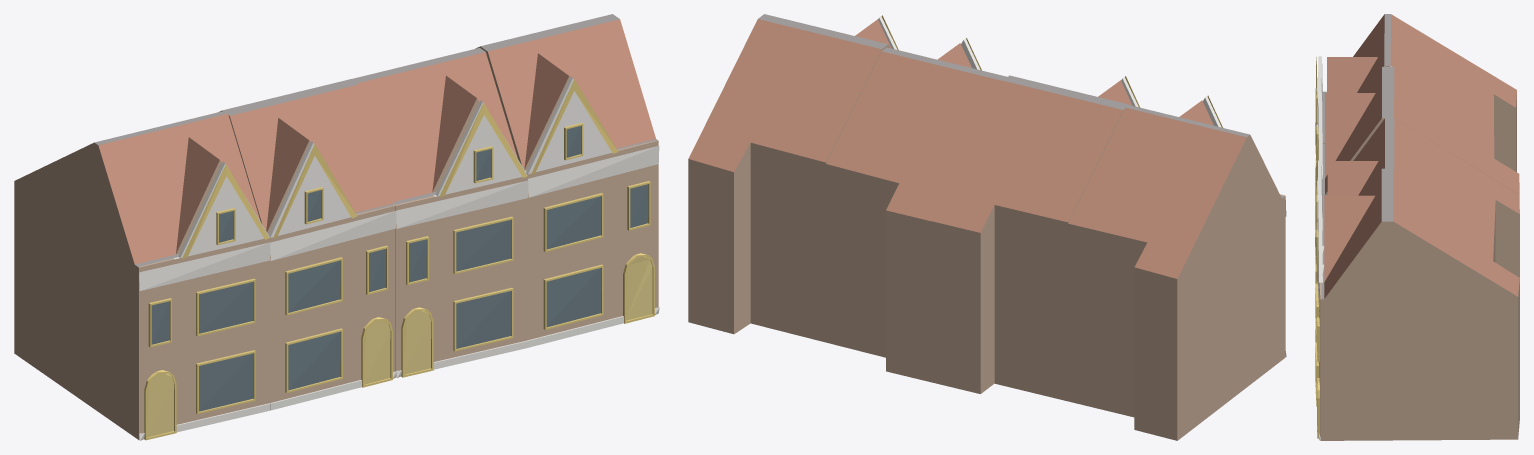
Rendered from chunk-face-zaanhof-71-78.lod2.glb.
The picture shows the model from 3 angles, left to right: view 1: azimuth 30°, elevation 25°; view 2: azimuth 150°, elevation 25°; view 3: azimuth 270°, elevation 25°; orthographic projection. The views are drawn at different scales.
Visible parts, largest first — view 1: lod2; view 2: lod2; view 3: lod2.
Boxes of the visible parts, x1,y1,x2,y2 form: lod2: (14, 14, 659, 440); lod2: (688, 14, 1286, 440); lod2: (1315, 14, 1519, 440).
Bounding box in the file's own units: 23.96 × 11.67 × 9.89.
